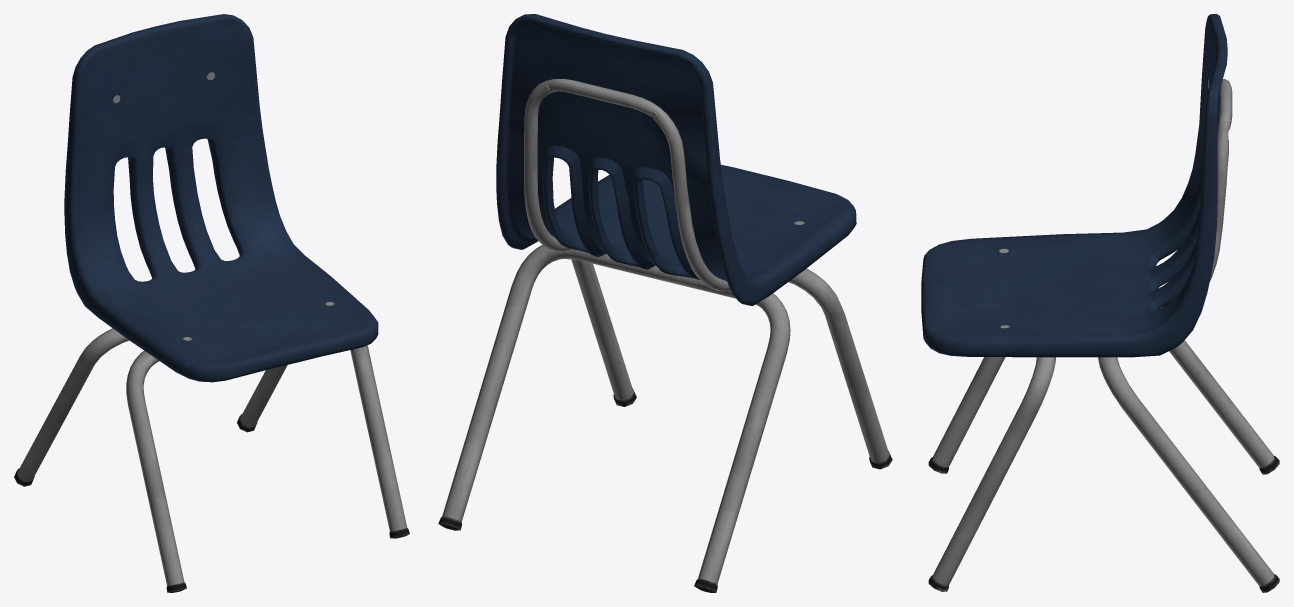
File: SchoolChair_01.glb
The picture shows the model from 3 angles, left to right: view 1: azimuth 30°, elevation 25°; view 2: azimuth 150°, elevation 25°; view 3: azimuth 270°, elevation 25°; orthographic projection. The views are drawn at different scales.
Visible parts, largest first — view 1: SchoolChair_01; view 2: SchoolChair_01; view 3: SchoolChair_01.
Boxes of the visible parts, <box> form: SchoolChair_01: <box>14,14,409,592</box>; SchoolChair_01: <box>438,14,892,592</box>; SchoolChair_01: <box>921,14,1279,592</box>.
Bounding box in the file's own units: 0.5659 × 1.01 × 0.6752.
Materials: 1 (1 with a texture image).
